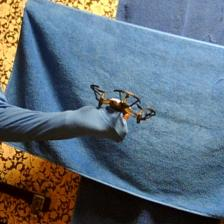drone: (91, 82, 157, 125)
